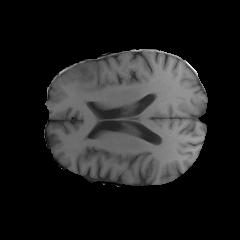glioma: (60, 62, 111, 103)
